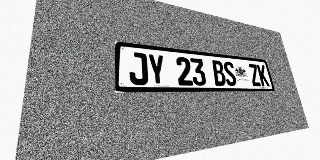2: (175, 56, 193, 86)
3: (190, 58, 207, 86)
B: (211, 60, 227, 86)
J: (128, 52, 149, 85)
K: (256, 64, 270, 86)
S: (222, 61, 238, 86)
Y: (147, 54, 166, 85)
Z: (248, 64, 262, 86)
